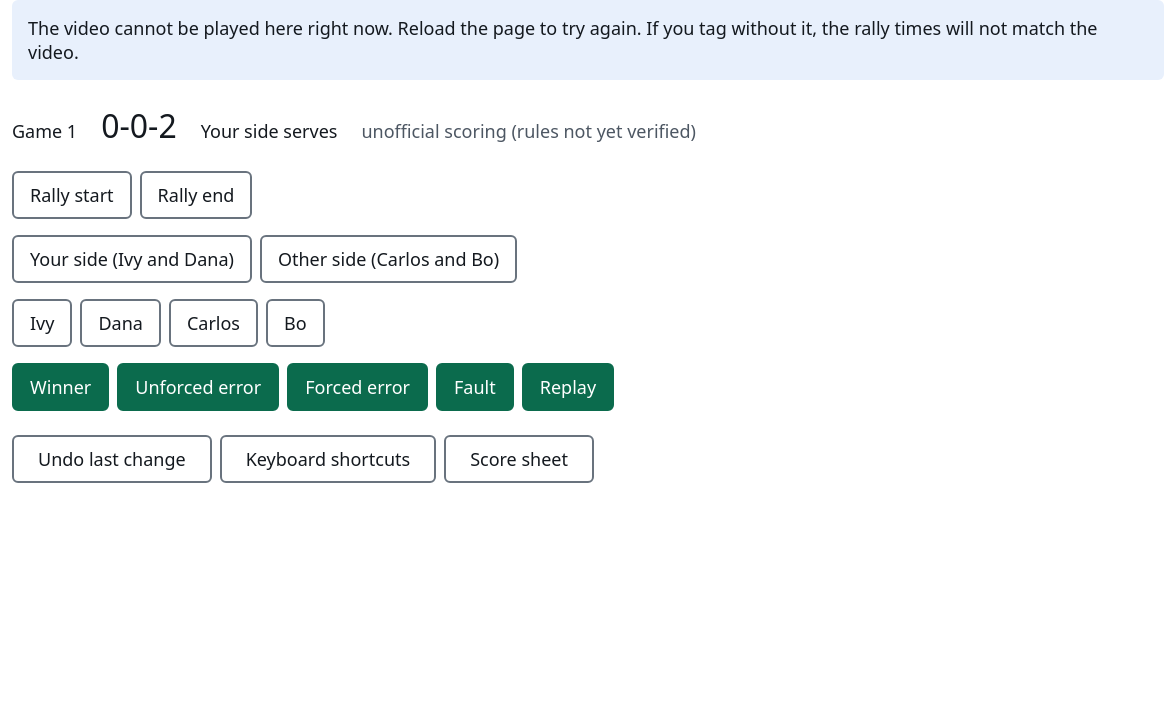
Test case: QuickTag (T-01) › a wrong-side player is refused before anything is sent
The image size is (1164, 720).
What coordinates should you click on to do the following:
click the button "Rally start"
I would click on:
 (72, 195)
Its box is [12,171,132,219].
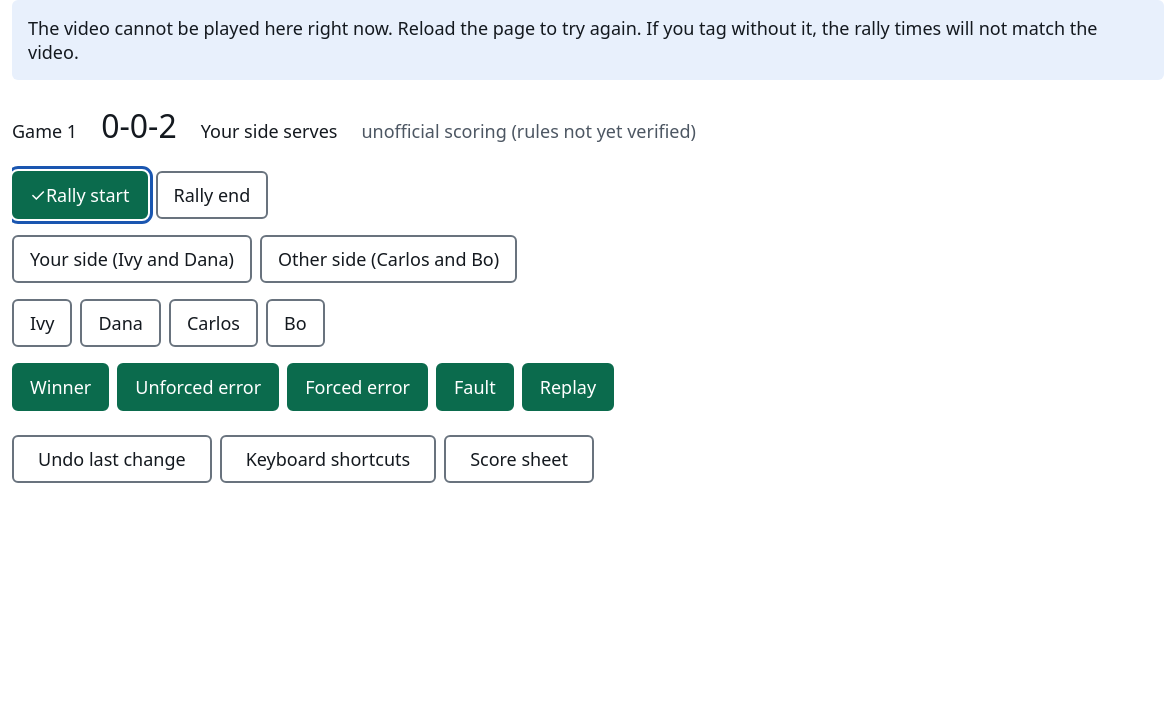
What coordinates should you click on to do the following:
click the button "Rally end"
I would click on:
 (212, 195)
Its box is [156,171,268,219].
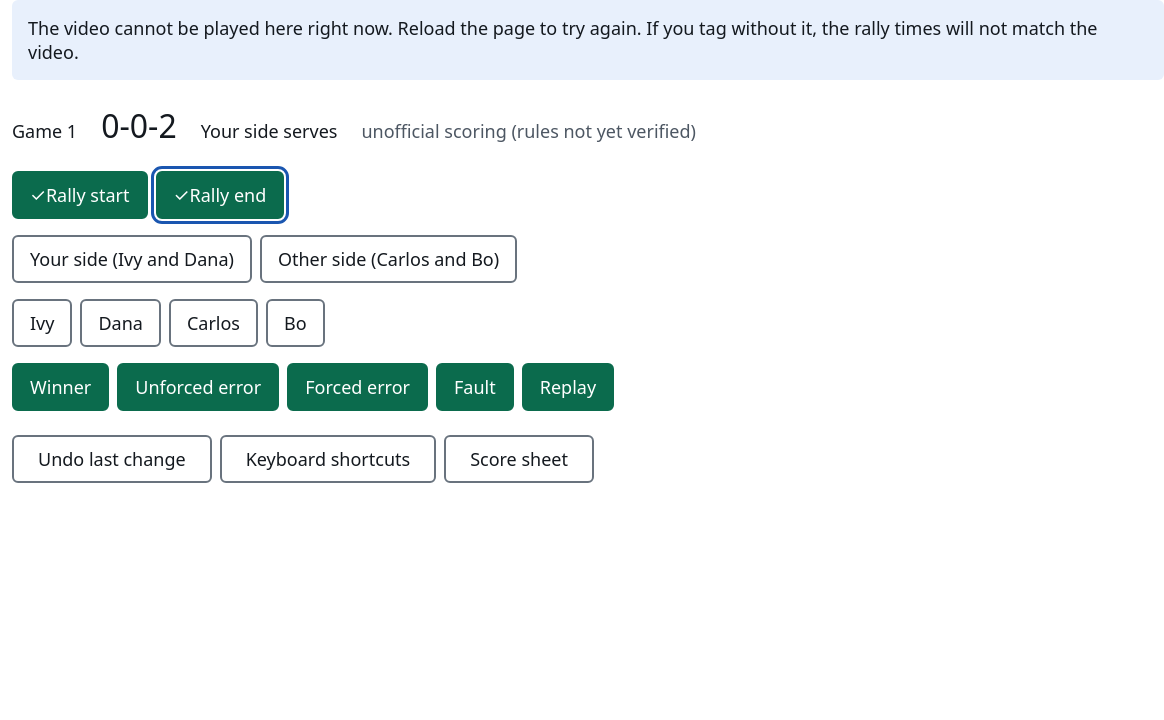
What coordinates should you click on to do the following:
click the button "Your side (Ivy and Dana)"
I would click on:
 (132, 259)
Its box is [12,235,252,283].
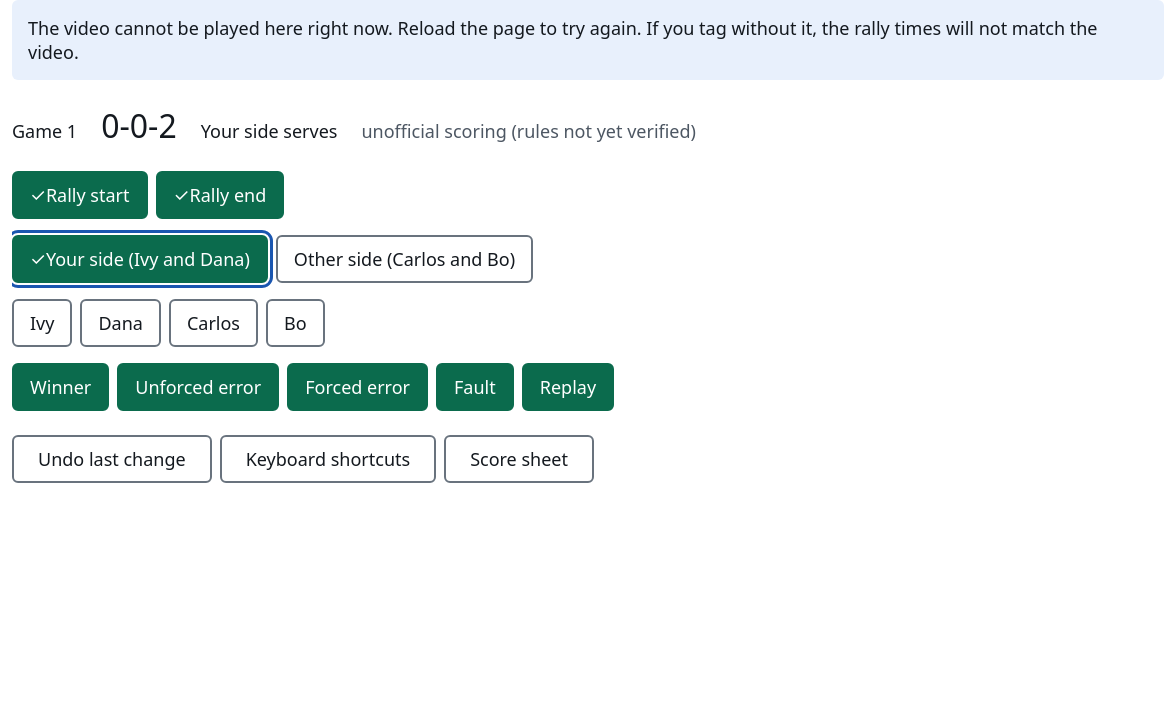
What coordinates should you click on to do the following:
click the button "Dana"
I would click on:
 (121, 323)
Its box is [80,299,161,347].
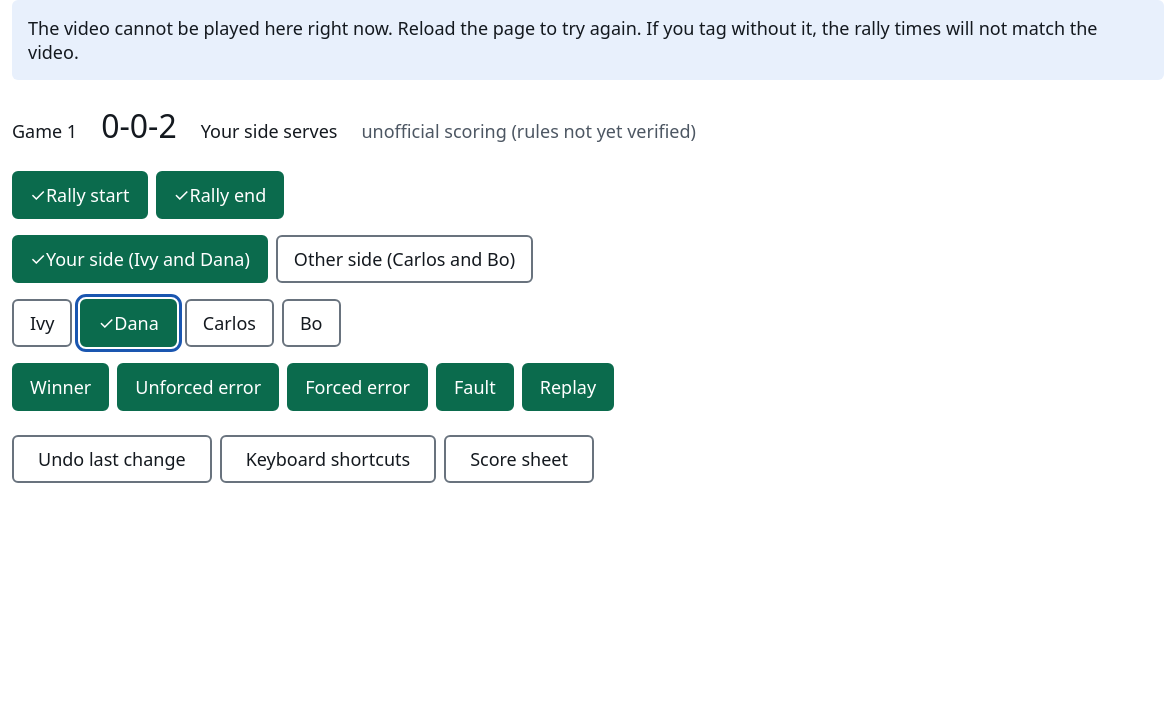
What coordinates should you click on to do the following:
click the button "Unforced error"
I would click on:
 (198, 387)
Its box is [117,363,279,411].
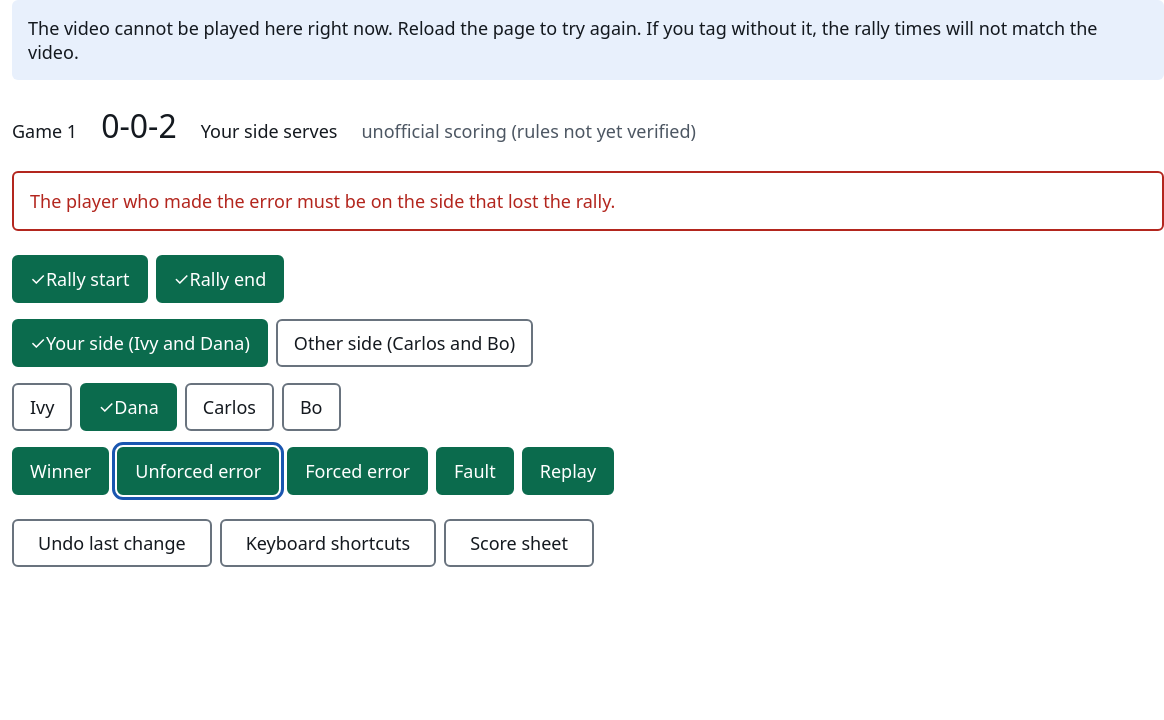
expect the message reads "The player who made the error must be on the side that lost the rally.": met, box [30,189,615,213]
